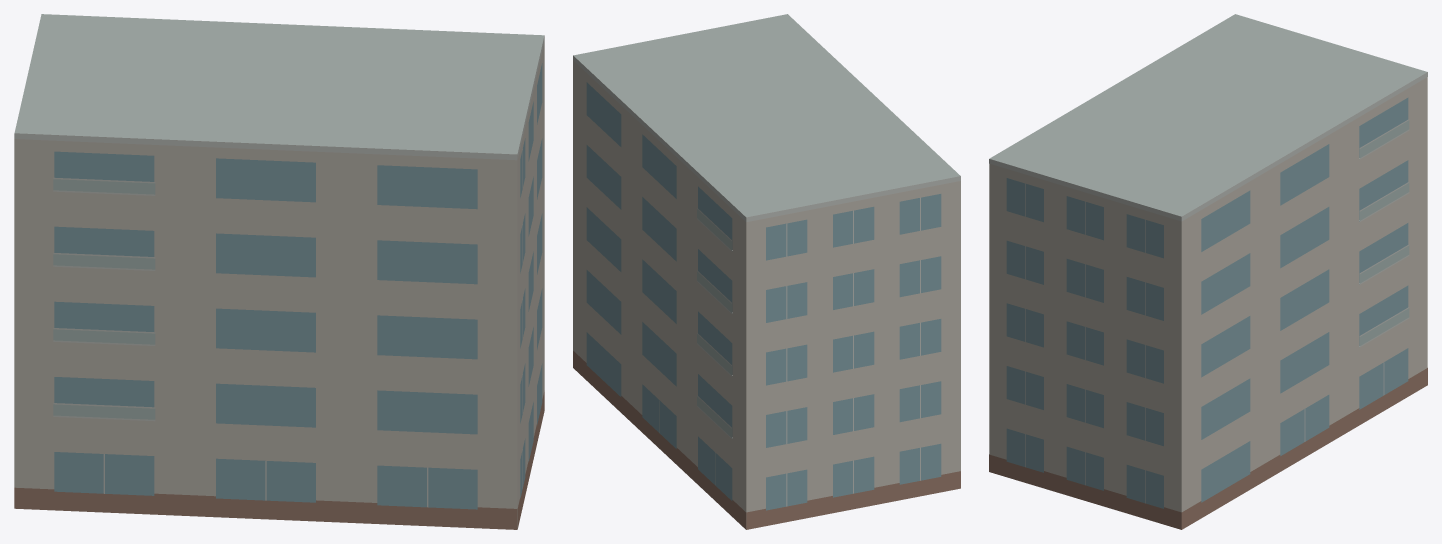
The model's file is survey-upis-32554500.glb.
3 renders of one model, left to right at view 1: azimuth 30°, elevation 25°; view 2: azimuth 150°, elevation 25°; view 3: azimuth 270°, elevation 25°, orthographic. The views are drawn at different scales.
Parts seen in each view (by area): view 1: survey-upis-32554500.tmp; view 2: survey-upis-32554500.tmp; view 3: survey-upis-32554500.tmp.
Boxes of the visible parts, <box> form: survey-upis-32554500.tmp: <box>14,14,544,529</box>; survey-upis-32554500.tmp: <box>573,14,960,529</box>; survey-upis-32554500.tmp: <box>989,14,1427,529</box>.
Bounding box in the file's own units: 21.94 × 15.8 × 20.06.
